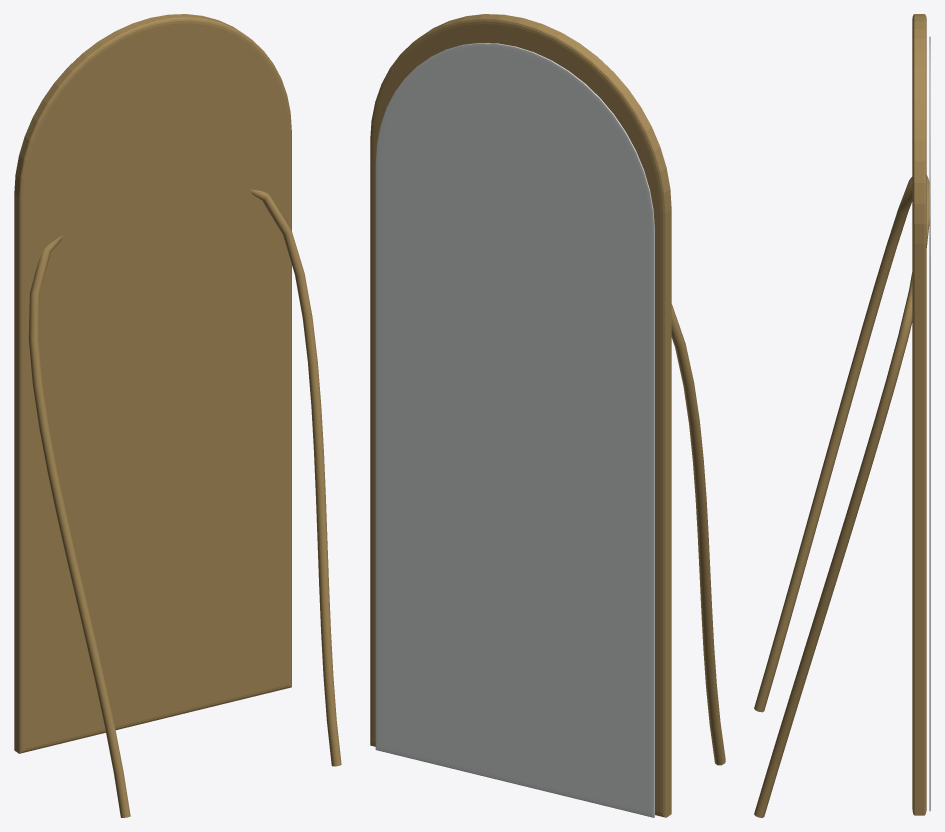
Rendered from luxury-dressing-mirror.glb.
The picture shows the model from 3 angles, left to right: view 1: azimuth 30°, elevation 25°; view 2: azimuth 150°, elevation 25°; view 3: azimuth 270°, elevation 25°; orthographic projection. The views are drawn at different scales.
Visible parts, largest first — view 1: bronze_0; view 2: bronze_0 (×2); view 3: bronze_0 (×2).
Boxes of the visible parts, x1,y1,x2,y2 form: bronze_0: (14,14,341,817); bronze_0 (×2): (370,14,725,817); bronze_0 (×2): (754,14,930,817).
Bounding box in the file's own units: 0.741 × 1.82 × 0.3961.
